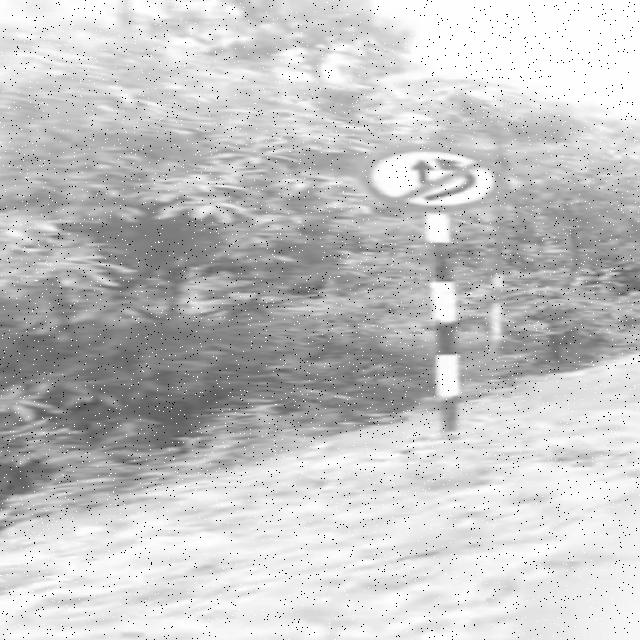No_overtaking: (364, 136, 523, 226)
